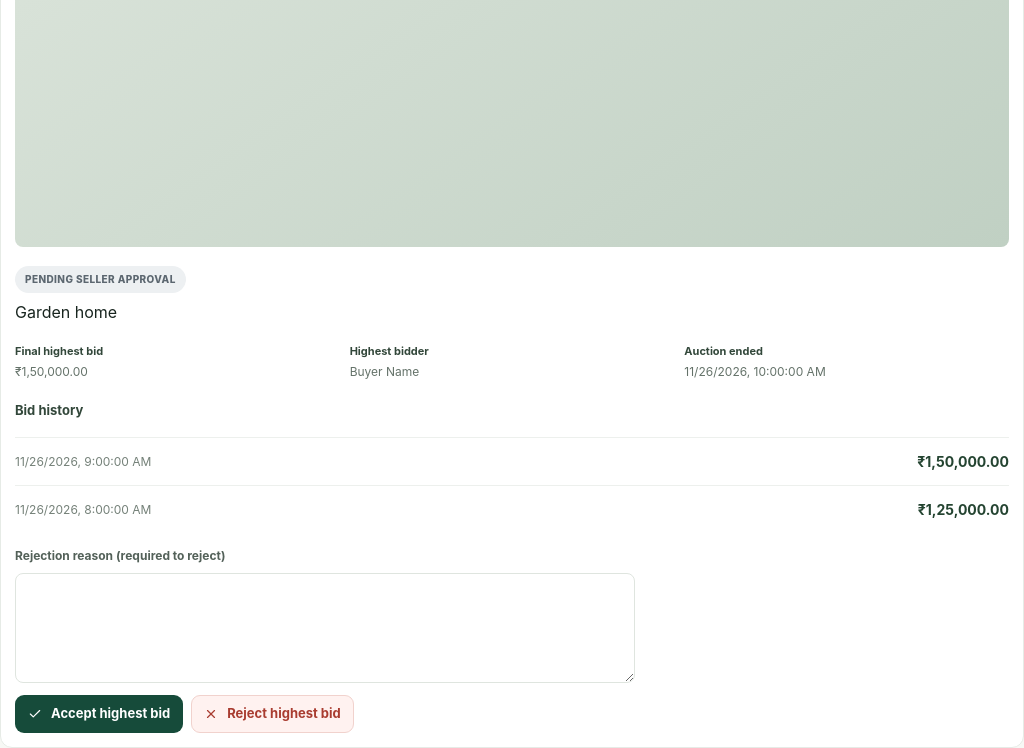
Test: PendingWinnerApprovalPanel › shows the highest bid and asks for confirmation before accepting
(page scrolled)
Expected: the text "Buyer Name" is shown, [350,364,419,379]
Expected: the text "₹1,50,000.00" is shown 2 times, [15,344,103,379]; [917,451,1009,472]
What coordinates should you click on to do the following:
click the button "Accept highest bid"
I would click on:
 (99, 714)
Its box is [15,695,183,733].
(page scrolled)
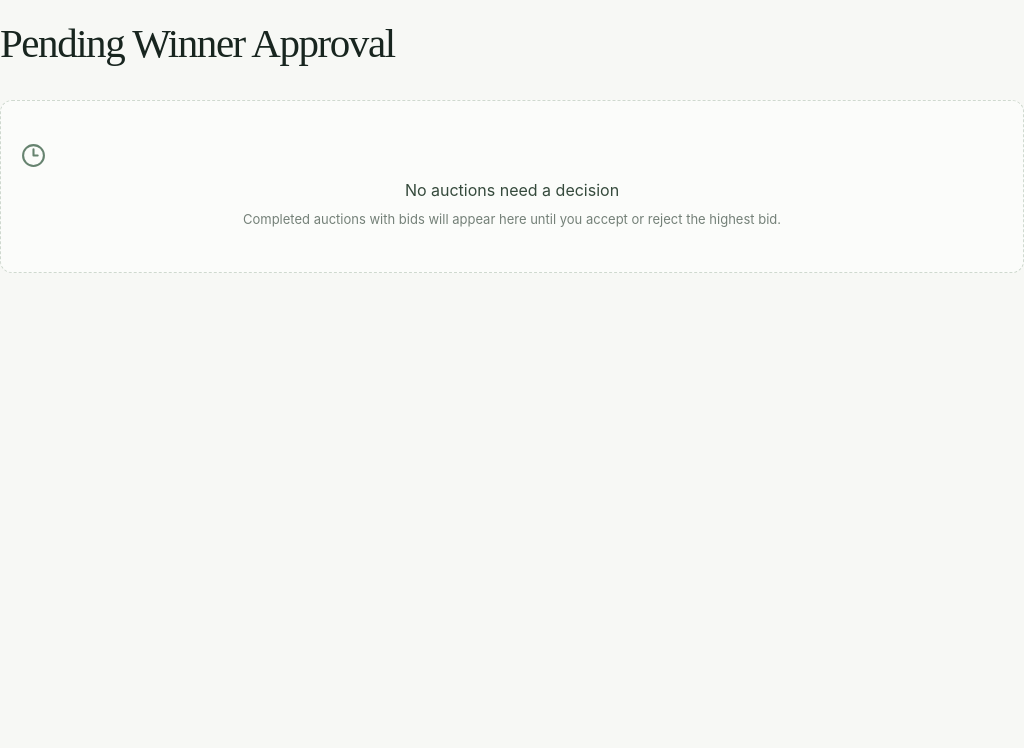
Expected: the heading "No auctions need a decision" is shown, [405,180,619,200]
